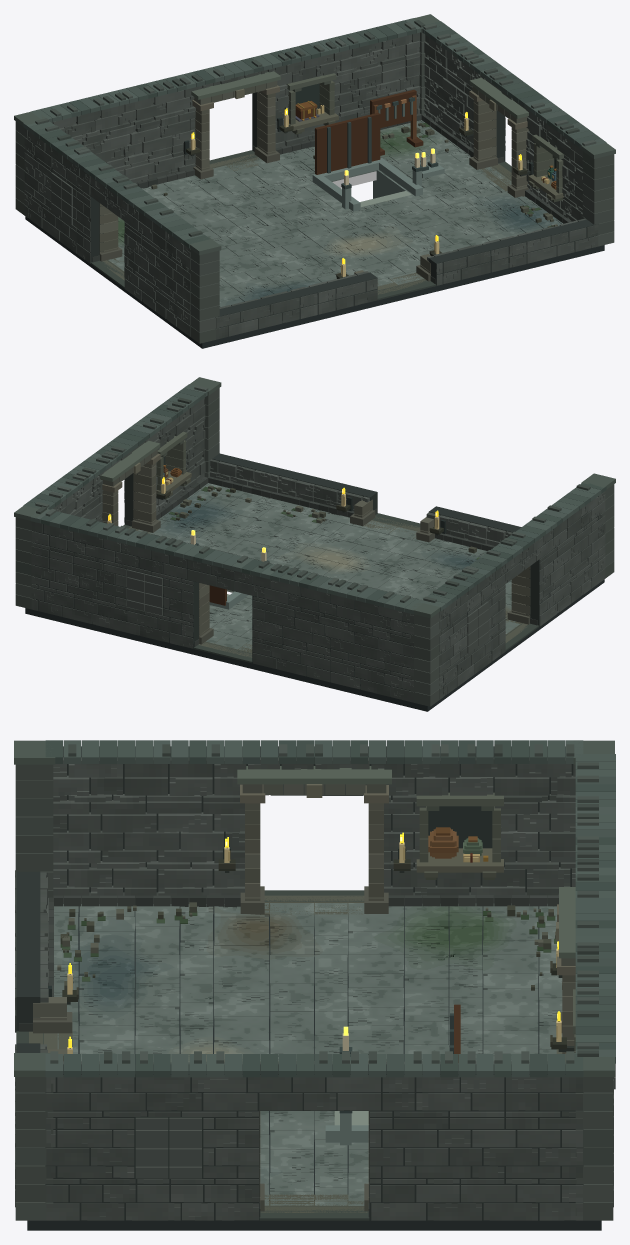
File: B35_shortcut.glb
3 views of the same model, one above another, from view 1: azimuth 30°, elevation 25°; view 2: azimuth 150°, elevation 25°; view 3: azimuth 270°, elevation 25° (orthographic). The views are drawn at different scales.
Parts seen in each view (by area): view 1: Wall_North_Upper, Wall_West_Upper, Floor_SE, Wall_South_Lower, Wall_East_Upper, Floor_NE, Floor_SW, Floor_NW, Floor_Substrate, Wall_West_Lower, Portal_North_LintelUpper, Portal_East_LintelUpper (+22 smaller); view 2: Wall_North_Upper, Wall_West_Upper, Floor_SE, Wall_East_Upper, Wall_North_Lower, Wall_South_Lower, Floor_SW, Wall_West_Lower, Floor_Substrate, Portal_East_LintelUpper, Corner_-1_1, Corner_1_1 (+14 smaller); view 3: Wall_East_Upper, Wall_West_Upper, Floor_SW, Floor_NW, Wall_East_Lower, Wall_West_Lower, Wall_North_Upper, Floor_Substrate, Portal_West_LintelUpper, Wall_South_Lower, Niche_West, Corner_1_-1 (+14 smaller).
Part boxes in pixels (x1,y1,x2,y2): Wall_North_Upper: (31,18,425,170); Wall_West_Upper: (23,118,210,313); Floor_SE: (321,178,562,284); Wall_South_Lower: (215,218,598,339); Wall_East_Upper: (422,21,606,212); Floor_NE: (226,120,505,225); Floor_SW: (124,223,404,307); Floor_NW: (108,165,315,270); Floor_Substrate: (25,171,604,348); Wall_West_Lower: (24,194,190,336); Portal_North_LintelUpper: (191,71,280,159); Portal_East_LintelUpper: (469,77,528,178); Wall_North_Upper: (30,506,424,679); Wall_West_Upper: (420,483,606,676); Floor_SE: (138,483,396,575); Wall_East_Upper: (23,384,209,522); Wall_North_Lower: (31,587,414,702); Wall_South_Lower: (208,453,521,550); Floor_SW: (323,527,519,633); Wall_West_Lower: (439,557,605,699); Floor_Substrate: (25,579,604,711); Portal_East_LintelUpper: (99,440,160,525); Corner_-1_1: (409,600,441,706); Corner_1_1: (14,505,48,609); Wall_East_Upper: (45,1051,583,1184); Wall_West_Upper: (45,740,583,869); Floor_SW: (54,903,314,1061); Floor_NW: (314,903,562,1060); Wall_East_Lower: (45,1184,583,1220); Wall_West_Lower: (48,866,575,907); Wall_North_Upper: (575,754,615,1170); Floor_Substrate: (27,905,601,1230); Portal_West_LintelUpper: (237,766,391,882); Wall_South_Lower: (15,870,53,1207); Niche_West: (416,792,503,879); Corner_1_-1: (14,1053,53,1220).
Bounding box in the file's own units: 17.44 × 5.3 × 13.42.
Materials: 18 (1 with a texture image).
